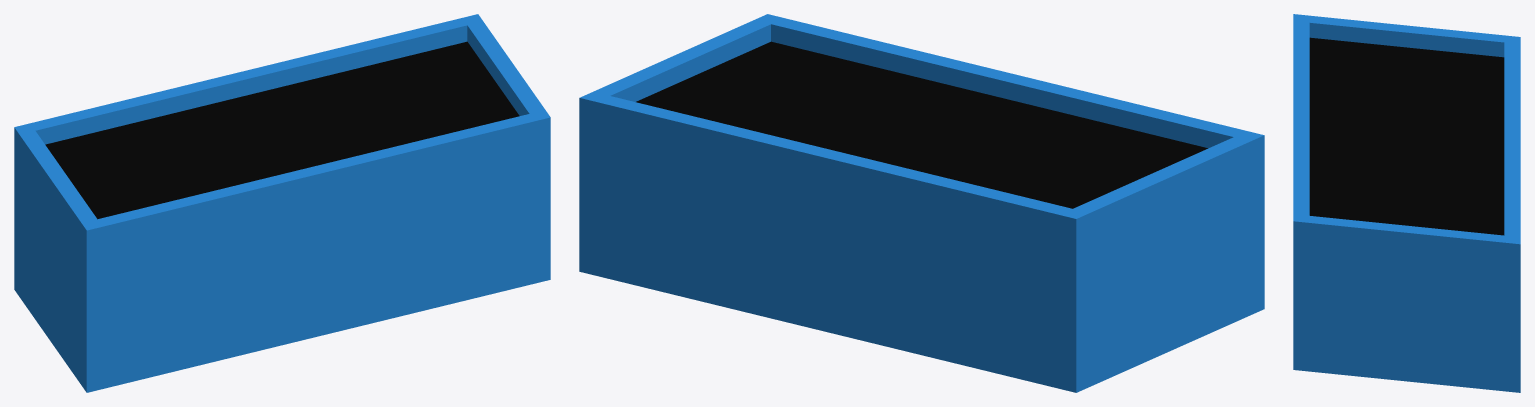
File: USVs.glb
The picture shows the model from 3 angles, left to right: view 1: azimuth 30°, elevation 25°; view 2: azimuth 150°, elevation 25°; view 3: azimuth 270°, elevation 25°; orthographic projection. The views are drawn at different scales.
Visible parts, largest first — view 1: USVs; view 2: USVs; view 3: USVs.
Boxes of the visible parts, x1=… form: USVs: x1=14, y1=14, x2=550, y2=392; USVs: x1=579, y1=14, x2=1264, y2=392; USVs: x1=1293, y1=14, x2=1520, y2=392.
Bounding box in the file's own units: 0.0197 × 0.00594 × 0.00823.
